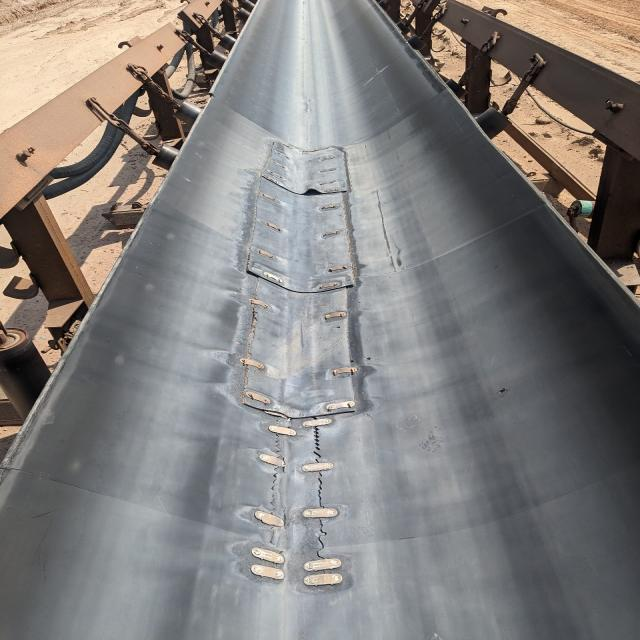Tear: (310, 520, 328, 558), (268, 466, 280, 516), (314, 471, 328, 508), (312, 426, 323, 464), (274, 432, 282, 459)
